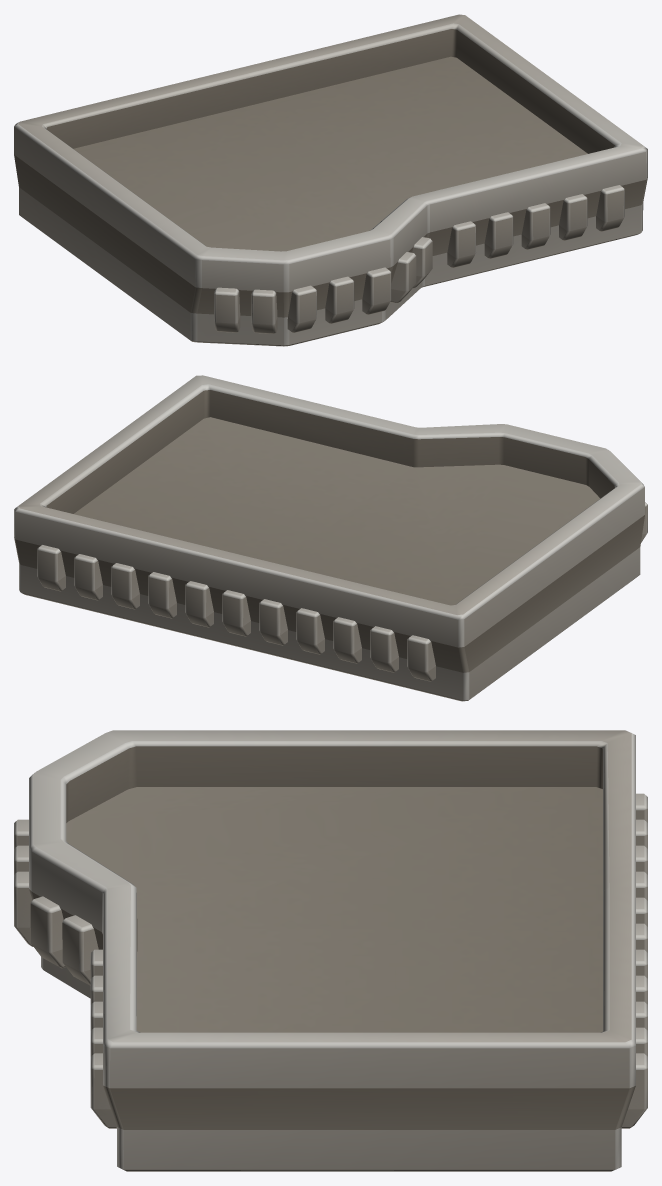
The model's file is appartment_type2_roof_type2.fbx.
The picture shows the model from 3 angles, top to bottom: view 1: azimuth 30°, elevation 25°; view 2: azimuth 150°, elevation 25°; view 3: azimuth 270°, elevation 25°; orthographic projection. The views are drawn at different scales.
Visible parts, largest first — view 1: appartment_type2_roof_type2; view 2: appartment_type2_roof_type2; view 3: appartment_type2_roof_type2.
Boxes of the visible parts, x1,y1,x2,y2 form: appartment_type2_roof_type2: (14, 14, 647, 346); appartment_type2_roof_type2: (14, 375, 647, 701); appartment_type2_roof_type2: (14, 730, 647, 1171).
Bounding box in the file's own units: 1217 × 232 × 1032.
